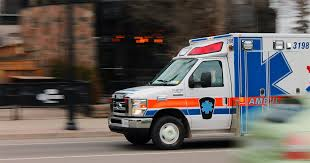special: (108, 32, 309, 149)
